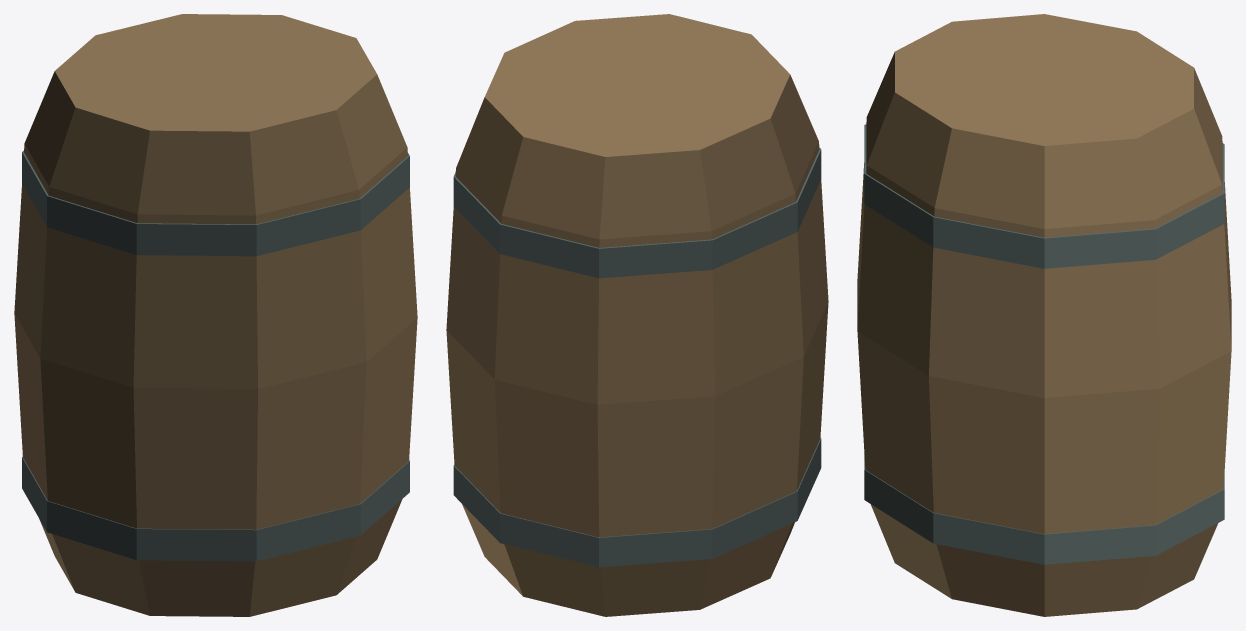
The picture shows the model from 3 angles, left to right: view 1: azimuth 30°, elevation 25°; view 2: azimuth 150°, elevation 25°; view 3: azimuth 270°, elevation 25°; orthographic projection. The views are drawn at different scales.
Parts seen in each view (by area): view 1: 88dee427851866b1e2f4dac79bd7ce20e6be69ba4d7f8f5945437de1fcfa; view 2: 88dee427851866b1e2f4dac79bd7ce20e6be69ba4d7f8f5945437de1fcfa; view 3: 88dee427851866b1e2f4dac79bd7ce20e6be69ba4d7f8f5945437de1fcfa.
Part boxes in pixels (x1=…): 88dee427851866b1e2f4dac79bd7ce20e6be69ba4d7f8f5945437de1fcfa: x1=14, y1=14, x2=417, y2=616; 88dee427851866b1e2f4dac79bd7ce20e6be69ba4d7f8f5945437de1fcfa: x1=446, y1=14, x2=828, y2=616; 88dee427851866b1e2f4dac79bd7ce20e6be69ba4d7f8f5945437de1fcfa: x1=857, y1=14, x2=1231, y2=616.
Size of the model in its own units: 0.53 by 0.7245 by 0.5041.
1 material, 1 textured.
